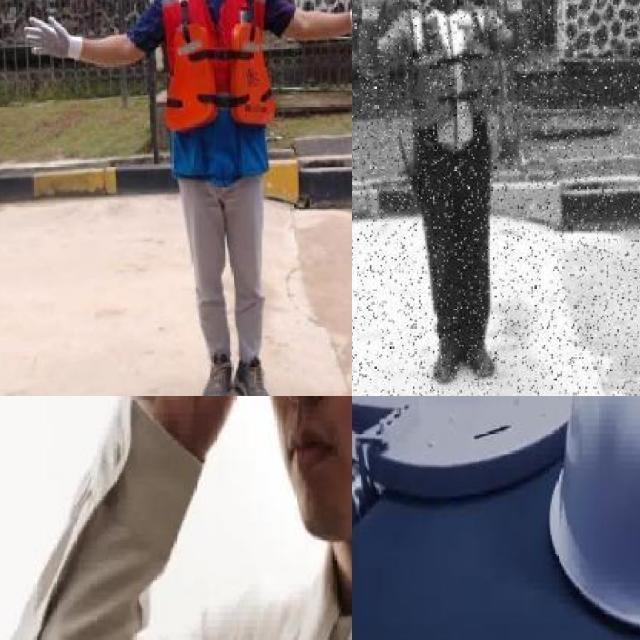apron: (22, 15, 86, 68), (353, 0, 392, 23)
